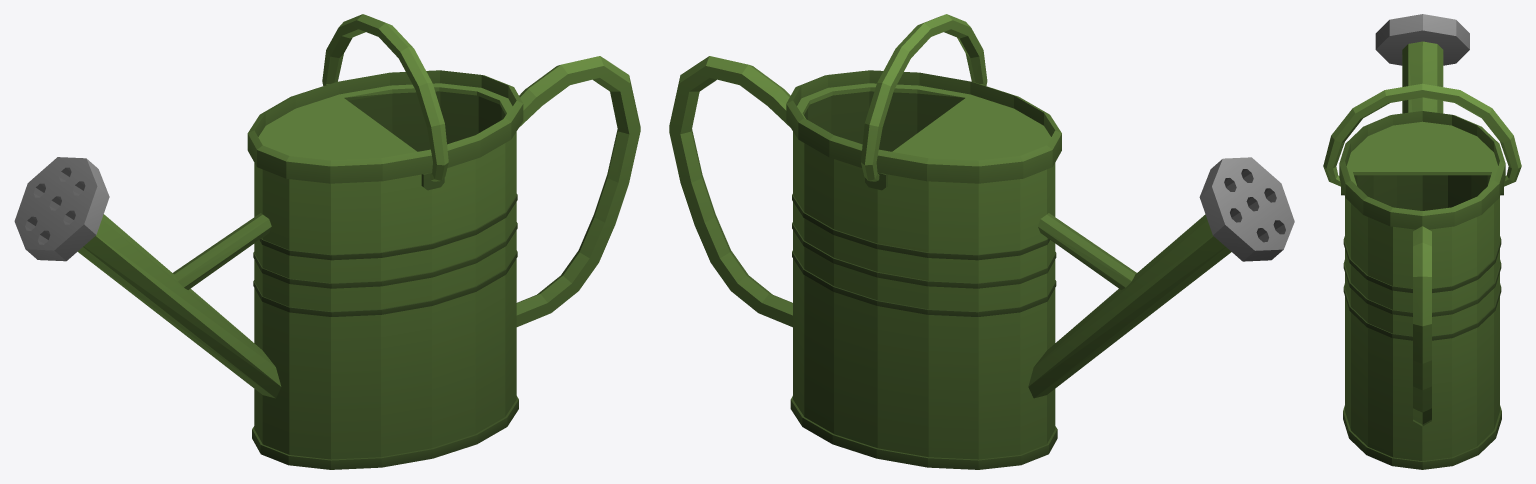
The model's file is Tool_Watering_Can_01.obj.
3 renders of one model, left to right at view 1: azimuth 30°, elevation 25°; view 2: azimuth 150°, elevation 25°; view 3: azimuth 270°, elevation 25°, orthographic. The views are drawn at different scales.
Parts seen in each view (by area): view 1: Tool_Watering_Can_01; view 2: Tool_Watering_Can_01; view 3: Tool_Watering_Can_01.
Boxes of the visible parts, x1,y1,x2,y2 form: Tool_Watering_Can_01: (14,14,640,469); Tool_Watering_Can_01: (669,14,1294,469); Tool_Watering_Can_01: (1323,14,1521,469).
Bounding box in the file's own units: 0.6376 × 0.3972 × 0.2132.
1 material, 1 textured.
